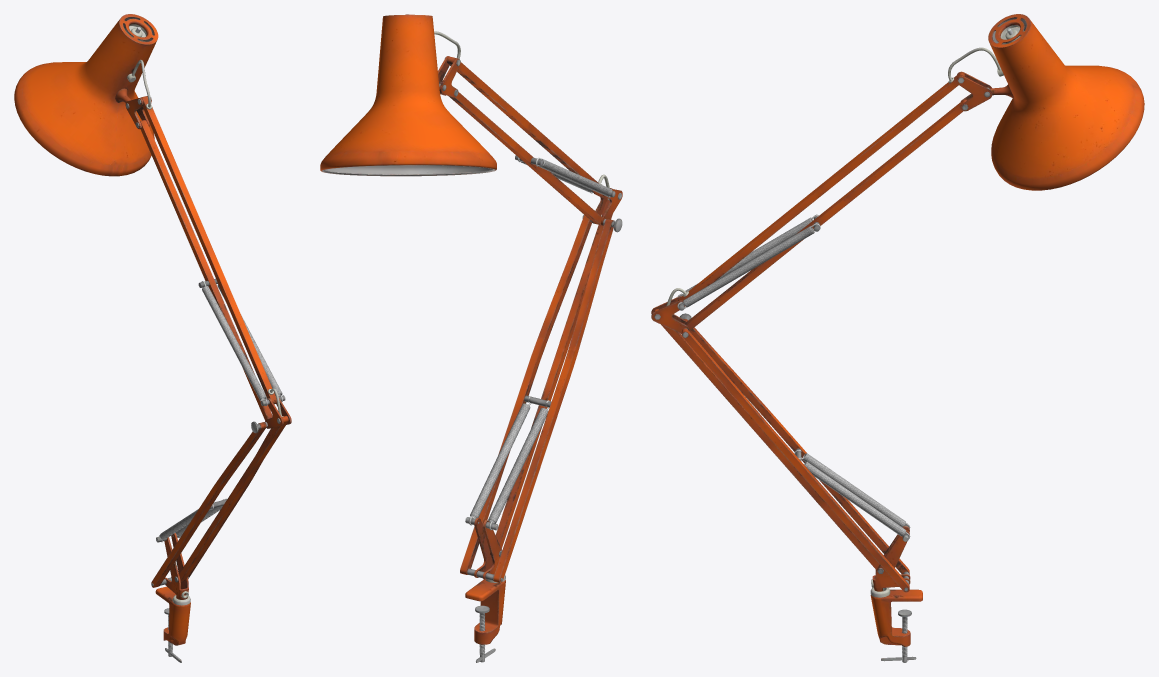
Rendered from ph-desk-lamp.glb.
The picture shows the model from 3 angles, left to right: view 1: azimuth 30°, elevation 25°; view 2: azimuth 150°, elevation 25°; view 3: azimuth 270°, elevation 25°; orthographic projection. The views are drawn at different scales.
Visible parts, largest first — view 1: desk_lamp_arm_01; view 2: desk_lamp_arm_01; view 3: desk_lamp_arm_01.
Part boxes in pixels (bbox=[...]): desk_lamp_arm_01: bbox=[14, 14, 291, 662]; desk_lamp_arm_01: bbox=[320, 14, 622, 662]; desk_lamp_arm_01: bbox=[651, 14, 1144, 662].
Bounding box in the file's own units: 0.2018 × 0.8926 × 0.6139.
2 materials, 2 textured.
